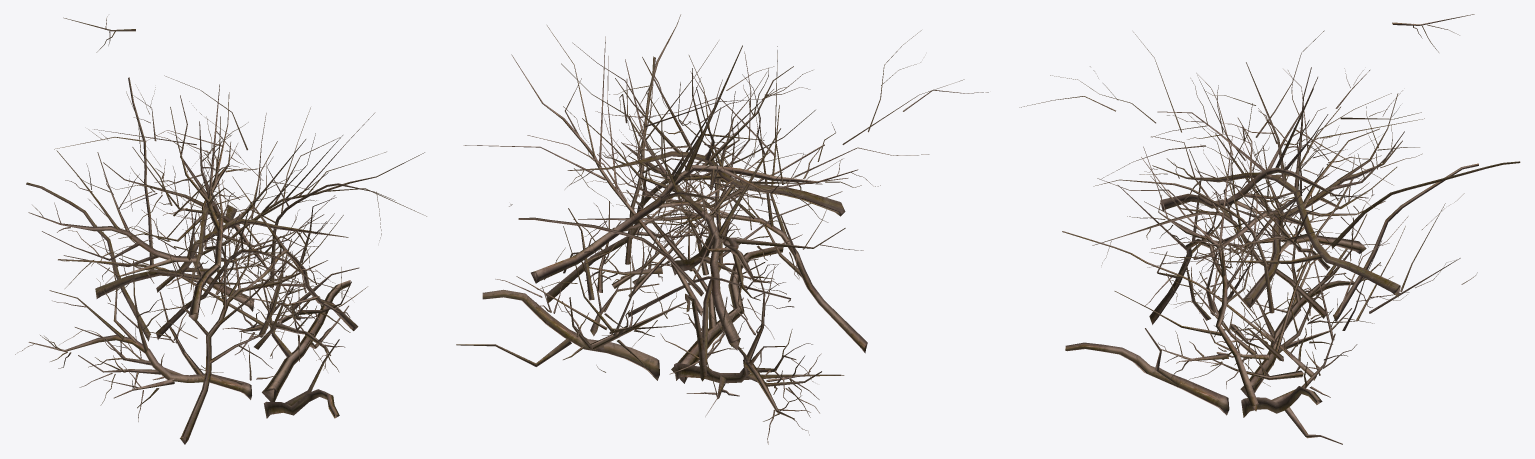
File: maple-detached-limbs.gltf
The picture shows the model from 3 angles, left to right: view 1: azimuth 30°, elevation 25°; view 2: azimuth 150°, elevation 25°; view 3: azimuth 270°, elevation 25°; orthographic projection. The views are drawn at different scales.
Parts seen in each view (by area): view 1: Maple_detached_limb_6, Maple_detached_limb_7, Maple_detached_limb_2, Maple_detached_limb_4, Maple_detached_limb_5, Maple_detached_limb_3, Maple_detached_limb_8, Maple_detached_limb_1; view 2: Maple_detached_limb_6, Maple_detached_limb_2, Maple_detached_limb_7, Maple_detached_limb_4, Maple_detached_limb_5, Maple_detached_limb_3, Maple_detached_limb_1, Maple_detached_limb_8; view 3: Maple_detached_limb_6, Maple_detached_limb_2, Maple_detached_limb_7, Maple_detached_limb_4, Maple_detached_limb_1, Maple_detached_limb_8, Maple_detached_limb_5, Maple_detached_limb_3.
Boxes of the visible parts, x1,y1,x2,y2 form: Maple_detached_limb_6: (15, 16, 350, 421); Maple_detached_limb_7: (26, 77, 426, 341); Maple_detached_limb_2: (103, 95, 367, 372); Maple_detached_limb_4: (106, 84, 320, 384); Maple_detached_limb_5: (126, 84, 343, 444); Maple_detached_limb_3: (95, 116, 348, 382); Maple_detached_limb_8: (54, 75, 358, 330); Maple_detached_limb_1: (58, 101, 395, 331); Maple_detached_limb_6: (456, 56, 863, 444); Maple_detached_limb_2: (495, 45, 880, 365); Maple_detached_limb_7: (463, 25, 988, 381); Maple_detached_limb_4: (565, 57, 845, 353); Maple_detached_limb_5: (578, 74, 867, 353); Maple_detached_limb_3: (582, 59, 794, 350); Maple_detached_limb_1: (509, 14, 824, 372); Maple_detached_limb_8: (545, 83, 822, 302); Maple_detached_limb_6: (1065, 14, 1474, 444); Maple_detached_limb_2: (1139, 62, 1400, 392); Maple_detached_limb_7: (1019, 32, 1520, 321); Maple_detached_limb_4: (1160, 77, 1379, 386); Maple_detached_limb_1: (1062, 114, 1477, 351); Maple_detached_limb_8: (1114, 68, 1424, 411); Maple_detached_limb_5: (1118, 30, 1421, 336); Maple_detached_limb_3: (1175, 119, 1366, 313).
Size of the model in its own units: 515 by 492 by 610.
Materials: 1 (1 with a texture image).
